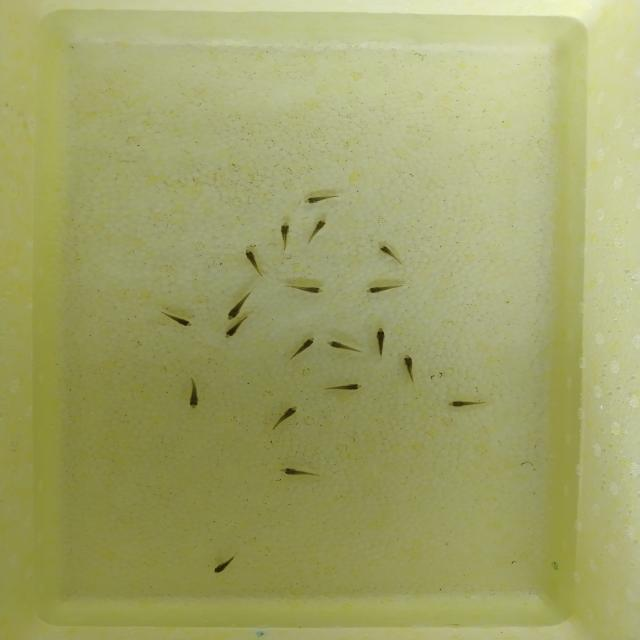fingerling: (221, 287, 255, 321), (242, 247, 268, 283), (269, 403, 301, 432), (157, 308, 196, 330), (364, 280, 412, 297), (375, 243, 407, 268), (287, 336, 317, 362), (210, 550, 240, 576), (322, 338, 367, 355), (400, 353, 421, 389), (185, 374, 204, 412), (306, 216, 329, 246), (280, 282, 328, 296), (276, 466, 324, 480), (371, 325, 389, 361), (301, 193, 349, 206), (276, 220, 294, 252), (444, 397, 489, 409), (314, 382, 364, 392), (223, 324, 242, 340)
